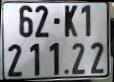.: (64, 69, 69, 74)
1: (31, 43, 40, 75), (50, 43, 59, 75), (82, 5, 91, 36)
2: (8, 44, 22, 77), (35, 5, 49, 37), (73, 43, 85, 74), (91, 42, 103, 73)
6: (19, 5, 33, 38)
K: (65, 5, 77, 37), (53, 18, 60, 24)
